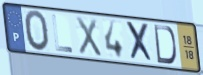4: (104, 18, 126, 60)
D: (153, 23, 178, 66)
L: (51, 13, 75, 54)
O: (23, 9, 51, 53)
X: (124, 20, 156, 65), (74, 14, 103, 58)
